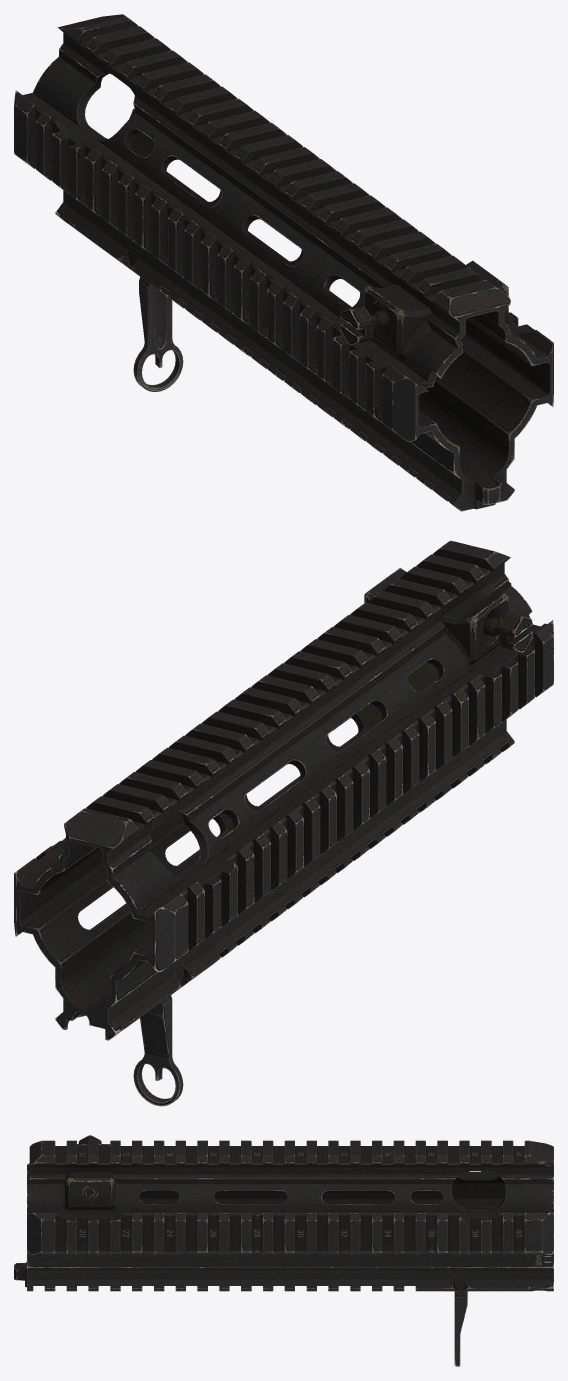
3 views of the same model, one above another, from view 1: azimuth 30°, elevation 25°; view 2: azimuth 150°, elevation 25°; view 3: azimuth 270°, elevation 25° (orthographic). The views are drawn at different scales.
Visible parts, largest first — view 1: TW_5bb20df1d4351e00347787d5_PZ_Import; view 2: TW_5bb20df1d4351e00347787d5_PZ_Import; view 3: TW_5bb20df1d4351e00347787d5_PZ_Import.
Part boxes in pixels (x1=…): TW_5bb20df1d4351e00347787d5_PZ_Import: x1=14, y1=14, x2=553, y2=511; TW_5bb20df1d4351e00347787d5_PZ_Import: x1=14, y1=540, x2=553, y2=1106; TW_5bb20df1d4351e00347787d5_PZ_Import: x1=14, y1=1135, x2=553, y2=1366.
Size of the model in its own units: 0.0339 by 0.1432 by 0.0634.
Materials: 1 (1 with a texture image).
